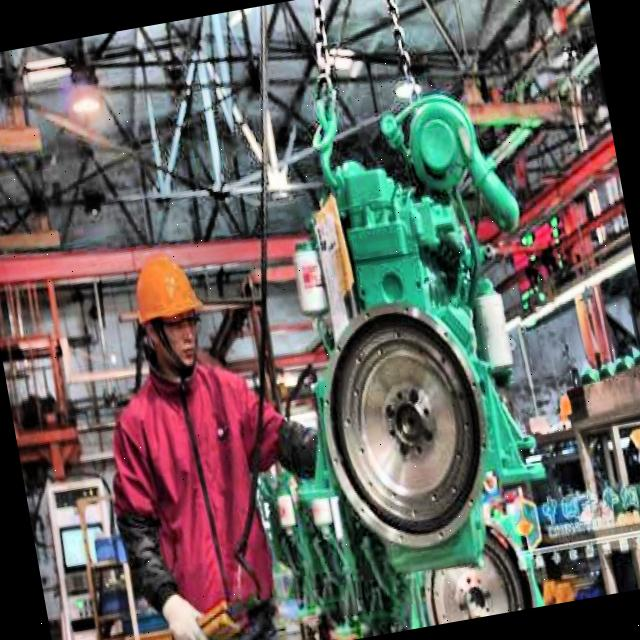helmet: (118, 236, 220, 393)
